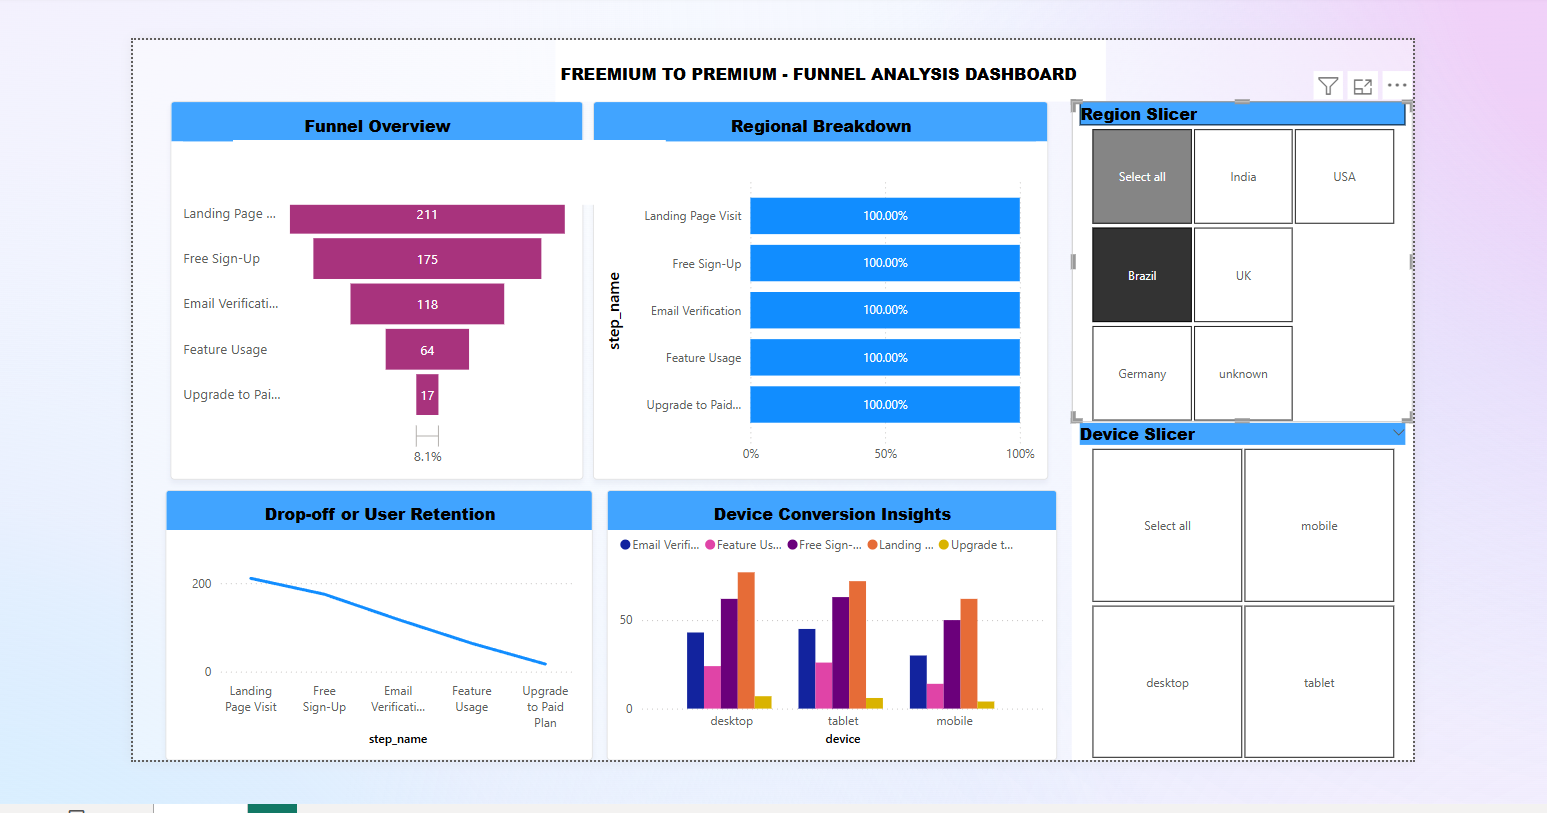

Layout of this report page (visuals, bound fields, positions):
{"tool":"powerbi","page":{"name":"Page 1","canvas":[1280,720],"ordinal":0},"visuals":[{"type":"funnel","title":"Funnel Overview","fields":{"Category":["extended_funnel.step_name","extended_funnel.user_id"],"Y":["CountNonNull(extended_funnel.user_id)"]},"box":[37.5,61.2,412.5,378.8],"z":0},{"type":"lineChart","title":"Drop-off or User Retention","fields":{"Category":["extended_funnel.step_name"],"Y":["CountNonNull(extended_funnel.user_id)"]},"box":[32.5,450,427.5,270],"z":1000},{"type":"hundredPercentStackedBarChart","title":"Regional Breakdown","fields":{"Category":["extended_funnel.step_name"],"Y":["CountNonNull(extended_funnel.user_id)"],"Series":["extended_funnel.region"]},"box":[460,61.2,455,378.8],"z":2000},{"type":"clusteredColumnChart","title":"Device Conversion Insights","fields":{"Category":["extended_funnel.device"],"Y":["CountNonNull(extended_funnel.user_id)"],"Series":["extended_funnel.step_name"]},"box":[473.8,450,450,270],"z":2001},{"type":"slicer","fields":{"Values":["extended_funnel.region"]},"box":[938.8,61.2,341.2,321.2],"z":2002},{"type":"slicer","fields":{"Values":["extended_funnel.device"]},"box":[938.8,382.5,341.2,337.5],"z":2003},{"type":"textbox","box":[422.5,0,550,61.2],"z":2004},{"type":"textbox","box":[100,100,432.5,65],"z":2005}]}

Visuals, with their boxes on the page's 1280x720 design canvas (x1, y1, x2, y2). These are canvas units, not pixel positions in the 1547x813 screenshot, which may show the page scaled, cropped or inside an application window:
"Funnel Overview" funnel: {"x1": 38, "y1": 61, "x2": 450, "y2": 440}
"Drop-off or User Retention" lineChart: {"x1": 32, "y1": 450, "x2": 460, "y2": 720}
"Regional Breakdown" hundredPercentStackedBarChart: {"x1": 460, "y1": 61, "x2": 915, "y2": 440}
"Device Conversion Insights" clusteredColumnChart: {"x1": 474, "y1": 450, "x2": 924, "y2": 720}
slicer - extended_funnel.region: {"x1": 939, "y1": 61, "x2": 1280, "y2": 382}
slicer - extended_funnel.device: {"x1": 939, "y1": 382, "x2": 1280, "y2": 720}
textbox: {"x1": 422, "y1": 0, "x2": 972, "y2": 61}
textbox: {"x1": 100, "y1": 100, "x2": 532, "y2": 165}
